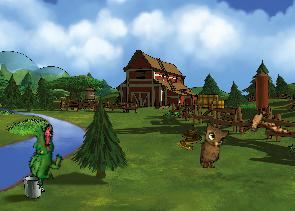crocodile: (17, 121, 70, 189)
eagle: (237, 100, 291, 146)
owl: (200, 122, 229, 169)
